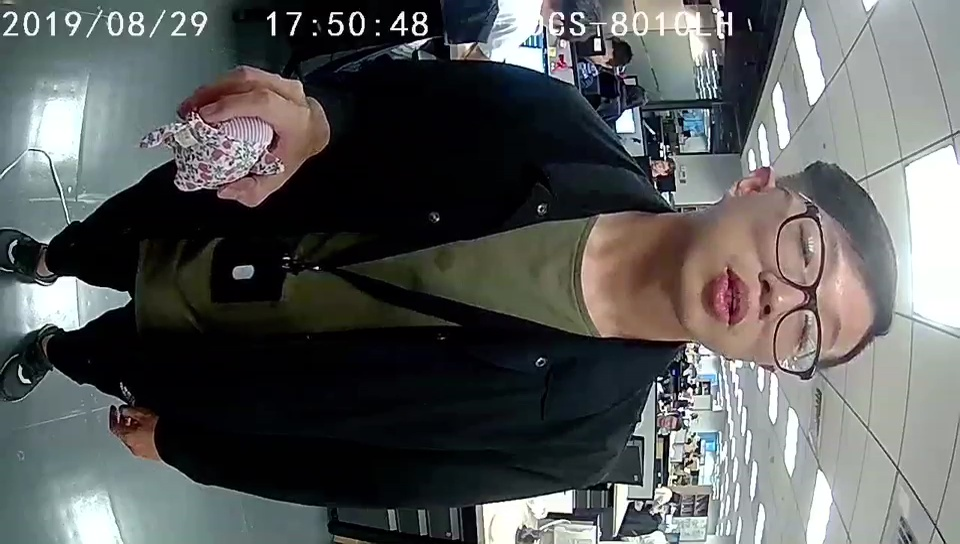pig: (168, 112, 286, 194)
